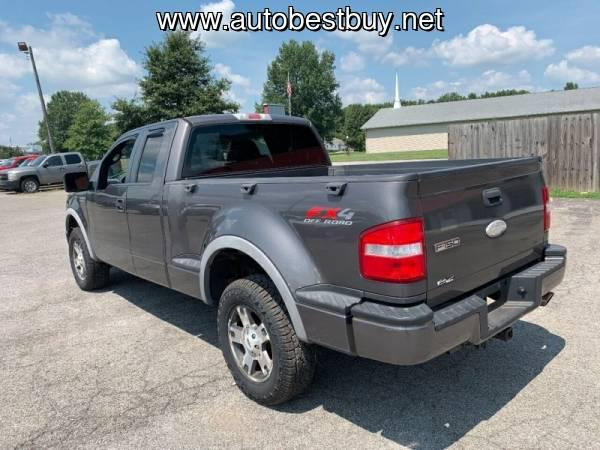Front_Left_Door: (86, 184, 133, 273)
Front_Left_Window: (88, 128, 142, 184)
Left_Taillight: (356, 217, 425, 285)
Rear_Bumper: (350, 243, 572, 363)
Rear_Fender: (162, 174, 426, 354)
Rear_Left_Door: (127, 181, 169, 287)
Rear_Left_Window: (124, 120, 186, 182)
Rear_Windshield: (177, 116, 332, 179)
Tailgate: (417, 157, 553, 306)
Wheel: (213, 271, 316, 400), (65, 228, 112, 293)
